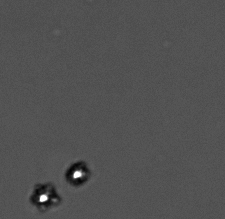Living Cell: (30, 183, 58, 208), (64, 161, 90, 186)
